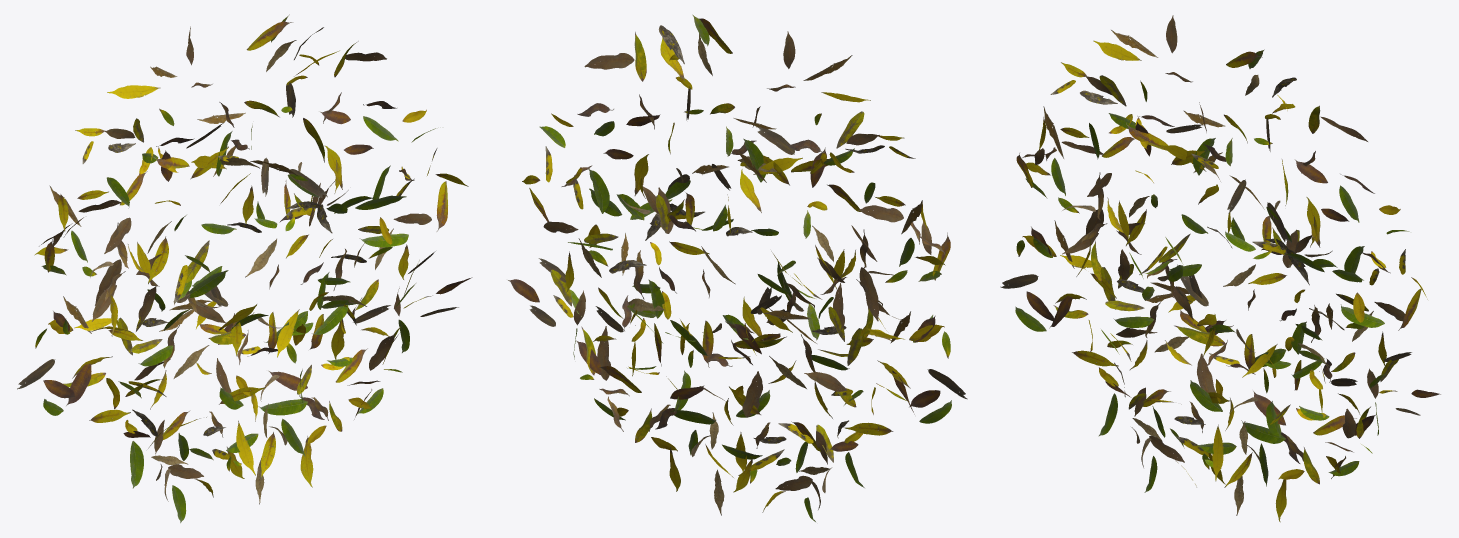
Rendered from Leaf_Pile_03_Var1_LOD2.fbx.
The picture shows the model from 3 angles, left to right: view 1: azimuth 30°, elevation 25°; view 2: azimuth 150°, elevation 25°; view 3: azimuth 330°, elevation 25°; orthographic projection. The views are drawn at different scales.
Visible parts, largest first — view 1: Var1_LOD2; view 2: Var1_LOD2; view 3: Var1_LOD2.
Boxes of the visible parts, x1,y1,x2,y2 form: Var1_LOD2: (17,14,472,523); Var1_LOD2: (508,14,967,521); Var1_LOD2: (1000,15,1440,522).
Size of the model in its own units: 114 by 118 by 9.09.
